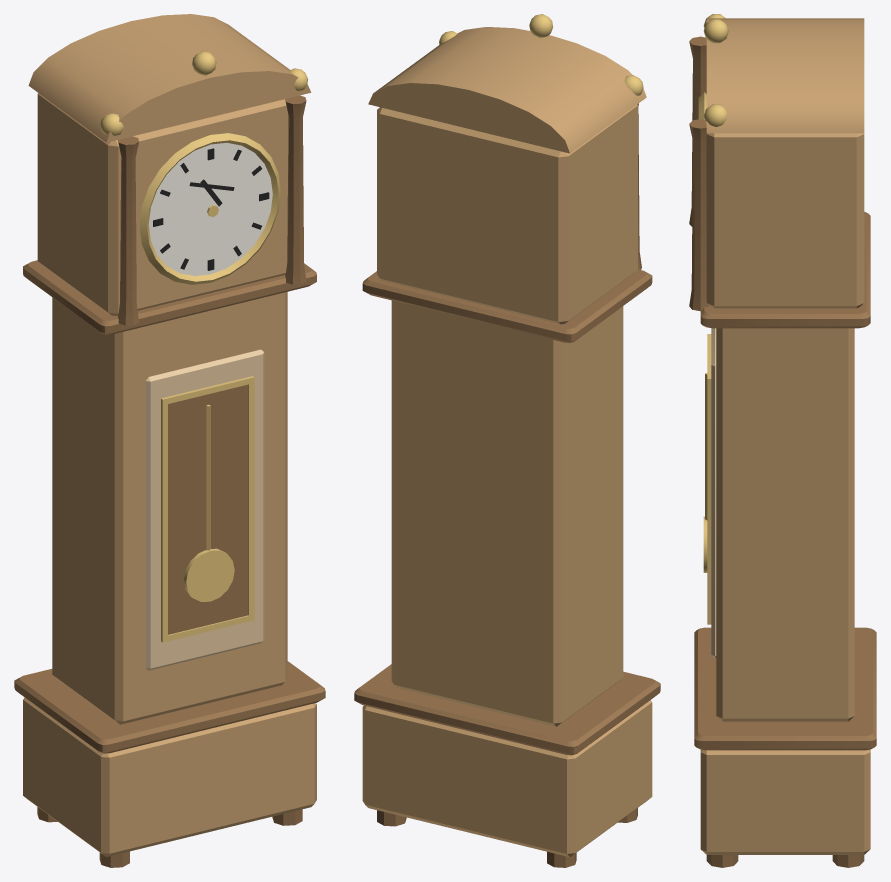
The model's file is furn_clock_tall.glb.
3 renders of one model, left to right at view 1: azimuth 30°, elevation 25°; view 2: azimuth 150°, elevation 25°; view 3: azimuth 270°, elevation 25°, orthographic. The views are drawn at different scales.
Visible parts, largest first — view 1: furn_clock_tall_body; view 2: furn_clock_tall_body; view 3: furn_clock_tall_body.
Boxes of the visible parts, box(x1,y1,x2,y2) form: furn_clock_tall_body: box(14, 14, 325, 867); furn_clock_tall_body: box(354, 14, 660, 867); furn_clock_tall_body: box(689, 14, 876, 867).
Size of the model in its own units: 0.42 by 1.4 by 0.298.
